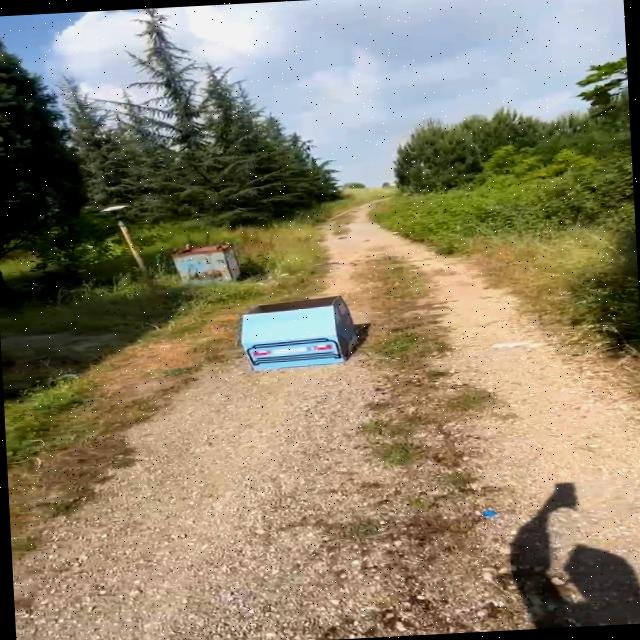blue_car: (229, 287, 370, 384)
